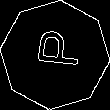P_W: (28, 34, 82, 76)
